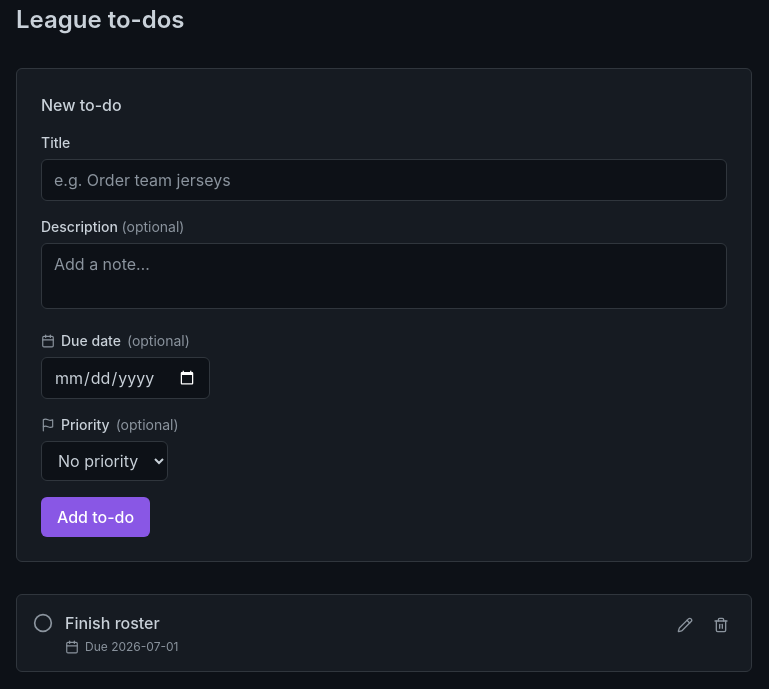
Test case: ListDetailView › completes an item, removes it from the view, and offers no restore
(page scrolled)
What coordinates should you click on to do the following:
click the button named "Complete Finish roster"
I would click on:
 (43, 623)
Its box is 33,613 -> 53,633.
(page scrolled)
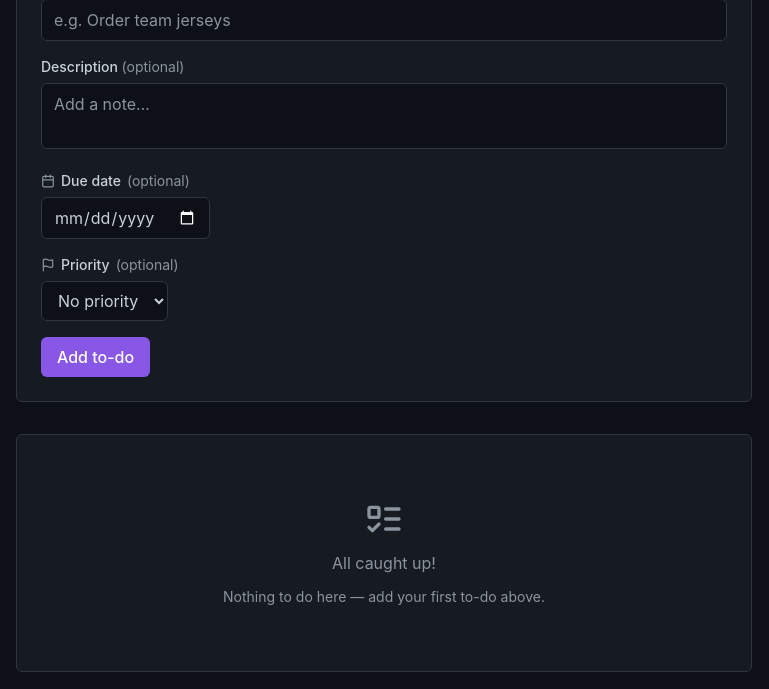
Result: the text "Finish roster" is gone
Result: the element with test id "empty-state" is shown at 16,434 -> 752,672
